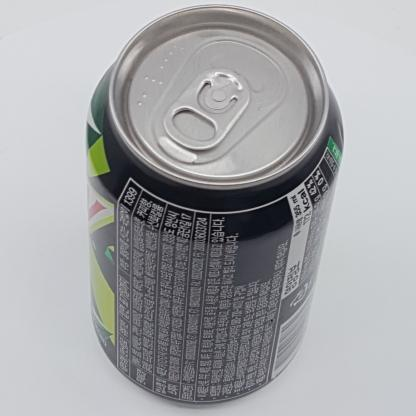------355ML: (86, 4, 344, 406)
